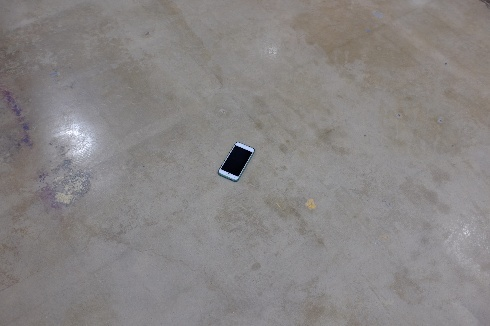phone: (213, 145, 262, 177)
